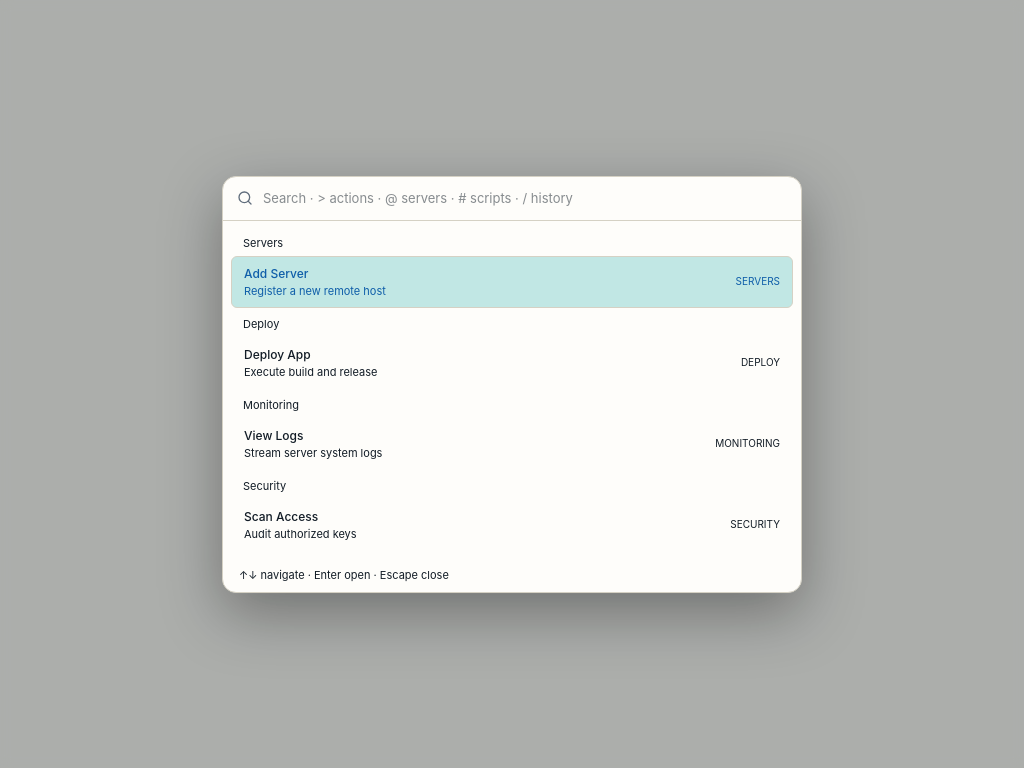
Test: Milestone 2 Empirical Challenger Test Suite › 1. Command Palette: Keyboard Navigation, A11y & Edge Cases › stress-tests list shrinking: resets/clamps selectedIndex and updates aria-activedescendant
The width and height of the screenshot is (1024, 768).
Note: Navigate to index 3 (last item)
Press End in the dropdown, box [263, 188, 787, 208]
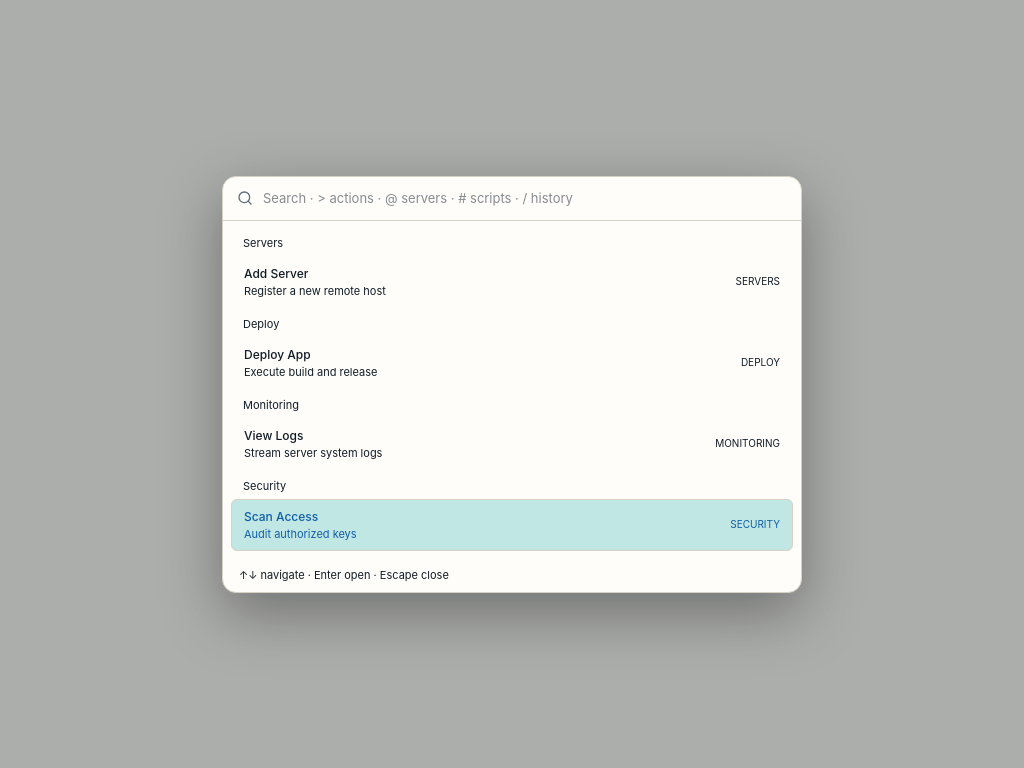
Note: Filter query narrows list from 4 items down to 1 item ("deploy")
Type "deploy" into the dropdown at (525, 198), box [263, 188, 787, 208]
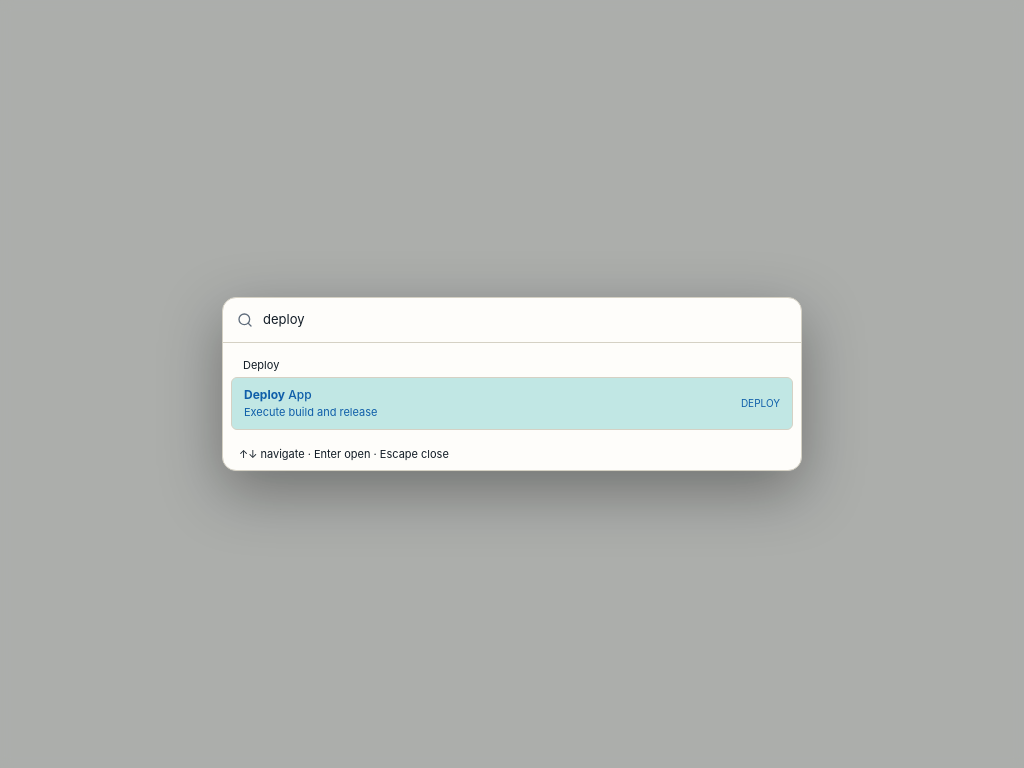
Expected: the option shows "Deploy App", [231, 377, 793, 430]
Result: the number of options is 1 at [231, 377, 793, 430]
